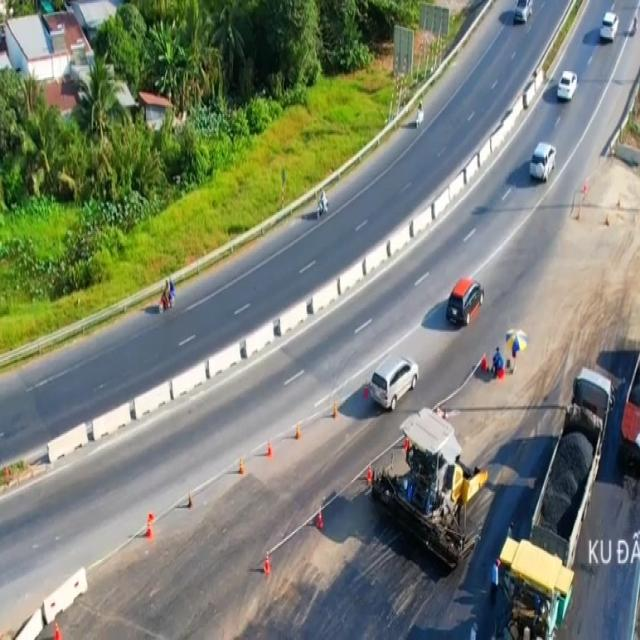car: (368, 355, 419, 409), (447, 277, 484, 326), (530, 138, 558, 186), (598, 8, 619, 47), (557, 69, 579, 104)
motorbike: (194, 275, 210, 306)
